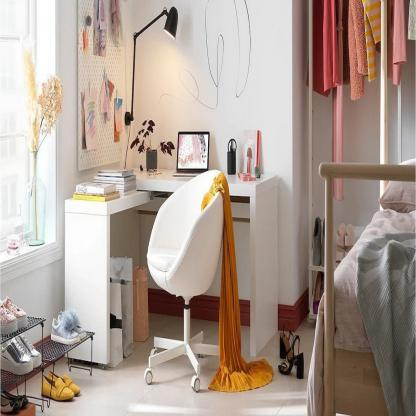bed: (309, 157, 416, 416)
chair: (140, 167, 230, 388)
light: (91, 4, 187, 188)
table: (52, 162, 292, 373), (0, 301, 96, 415)
